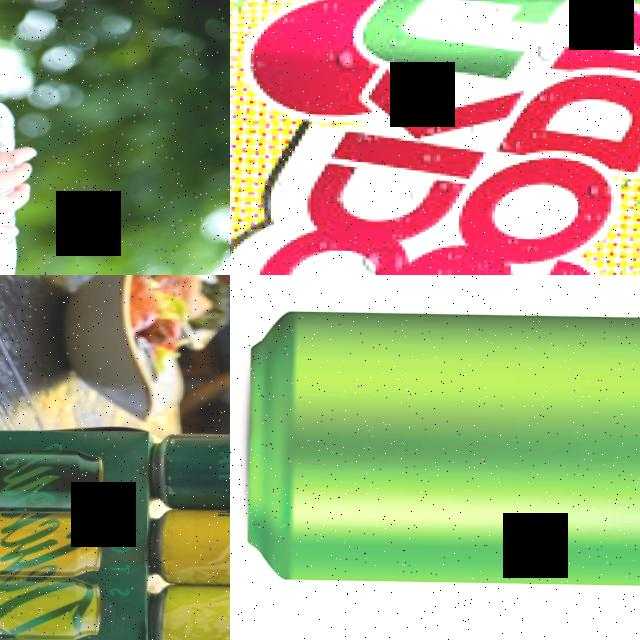can: (231, 309, 640, 593), (148, 507, 230, 587), (151, 431, 230, 511), (149, 583, 230, 640)
